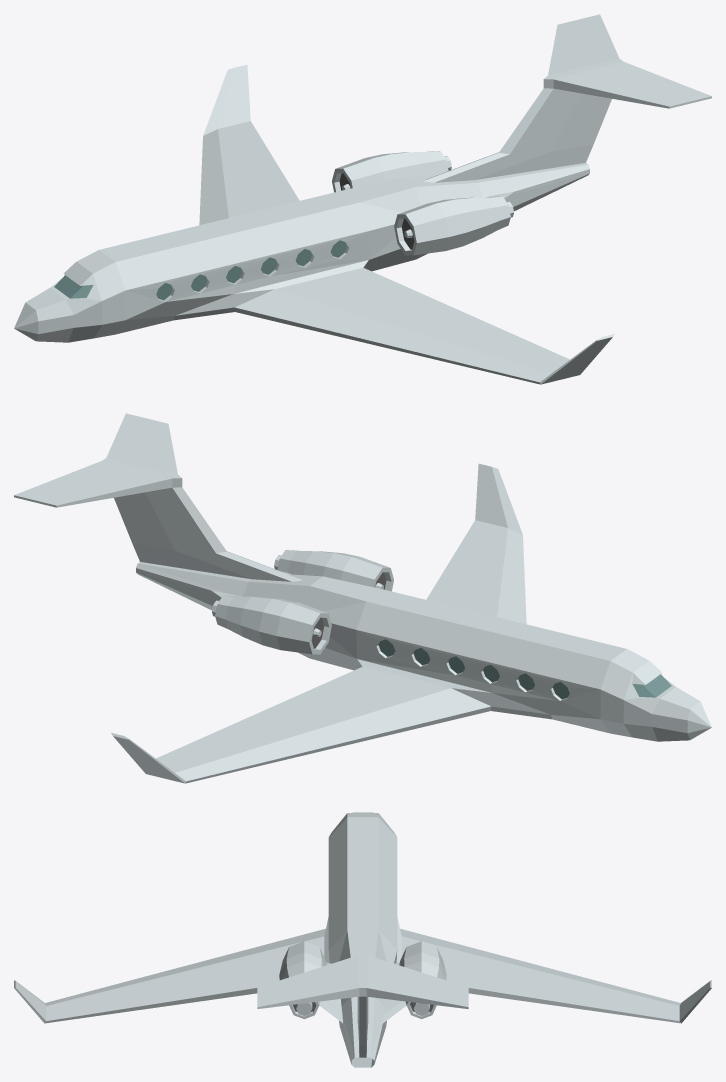
3 renders of one model, top to bottom at view 1: azimuth 30°, elevation 25°; view 2: azimuth 150°, elevation 25°; view 3: azimuth 270°, elevation 25°, orthographic. The views are drawn at different scales.
Parts seen in each view (by area): view 1: Circle; view 2: Circle; view 3: Circle.
Part boxes in pixels (bbox=[...]): Circle: bbox=[14, 14, 711, 384]; Circle: bbox=[14, 413, 711, 783]; Circle: bbox=[14, 812, 711, 1067].
Bounding box in the file's own units: 1711 × 364 × 1706.
